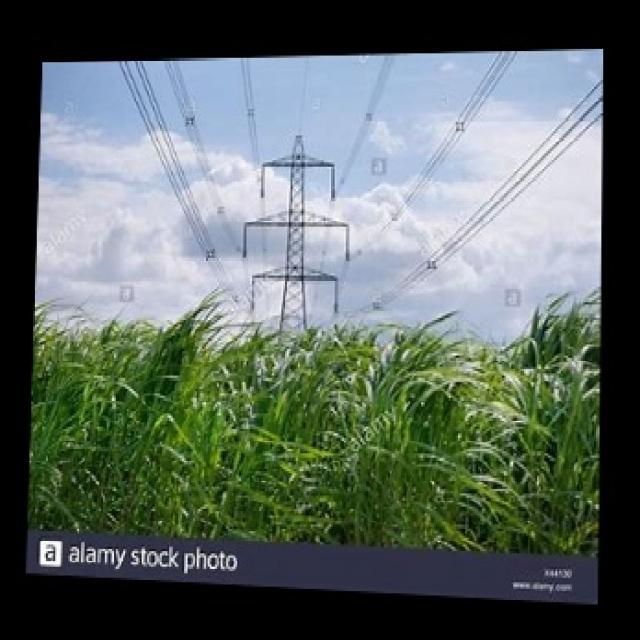utility poles: (237, 73, 354, 540)
